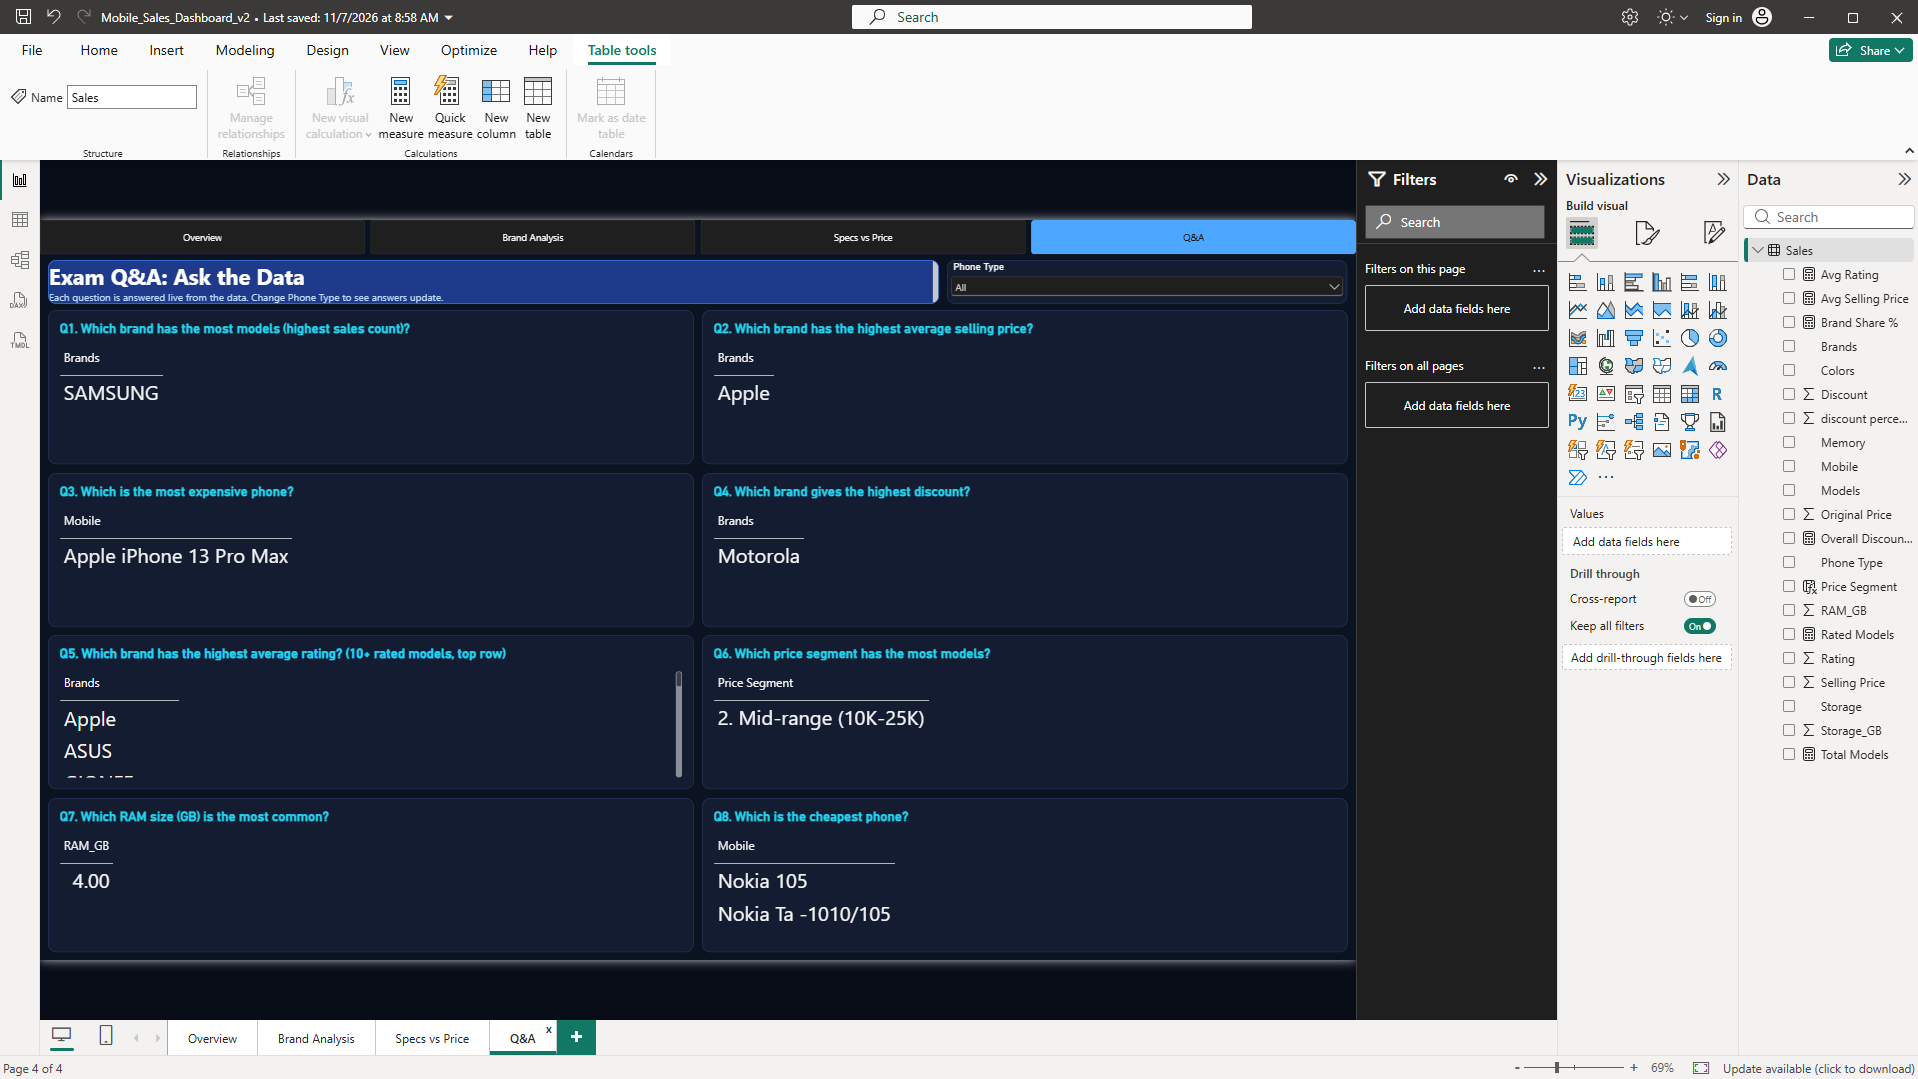

The dashboard page shown, as its layout file describes it:
{"tool":"powerbi","page":{"name":"Q&A","canvas":[1920,1080],"ordinal":3},"visuals":[{"type":"tableEx","title":"Q1. Which brand has the most models (highest sales count)?","fields":{"Values":["Sales.Brands","Sales.Total Models","Sales.Brand Share %"]},"box":[12,132,942,225],"z":1001},{"type":"tableEx","title":"Q2. Which brand has the highest average selling price?","fields":{"Values":["Sales.Brands","Sales.Avg Selling Price","Sales.Total Models"]},"box":[966,132,942,225],"z":1002},{"type":"tableEx","title":"Q3. Which is the most expensive phone?","fields":{"Values":["Sales.Mobile","Max(Sales.Selling Price)"]},"box":[12,369,942,225],"z":1003},{"type":"tableEx","title":"Q4. Which brand gives the highest discount?","fields":{"Values":["Sales.Brands","Sales.Overall Discount %","Sales.Total Models"]},"box":[966,369,942,225],"z":1004},{"type":"tableEx","title":"Q5. Which brand has the highest average rating? (10+ rated models, top row)","fields":{"Values":["Sales.Brands","Sales.Avg Rating","Sales.Rated Models"]},"box":[12,606,942,225],"z":1005},{"type":"tableEx","title":"Q6. Which price segment has the most models?","fields":{"Values":["Sales.Price Segment","Sales.Total Models"]},"box":[966,606,942,225],"z":1006},{"type":"tableEx","title":"Q7. Which RAM size (GB) is the most common?","fields":{"Values":["Sales.RAM_GB","Sales.Total Models"]},"box":[12,843,942,225],"z":1007},{"type":"tableEx","title":"Q8. Which is the cheapest phone?","fields":{"Values":["Sales.Mobile","Min(Sales.Selling Price)"]},"box":[966,843,942,225],"z":1008},{"type":"textbox","box":[12,58,1300,64],"z":9000},{"type":"pageNavigator","box":[0,0,1920,50],"z":9100},{"type":"slicer","title":"Phone Type","fields":{"Values":["Sales.Phone Type"]},"box":[1324,58,584,64],"z":9200}]}

Visuals, with their boxes on the page's 1920x1080 design canvas (x1, y1, x2, y2). These are canvas units, not pixel positions in the 1918x1079 screenshot, which may show the page scaled, cropped or inside an application window:
"Q1. Which brand has the most models (highest sales count)?" tableEx: 12, 132, 954, 357
"Q2. Which brand has the highest average selling price?" tableEx: 966, 132, 1908, 357
"Q3. Which is the most expensive phone?" tableEx: 12, 369, 954, 594
"Q4. Which brand gives the highest discount?" tableEx: 966, 369, 1908, 594
"Q5. Which brand has the highest average rating? (10+ rated models, top row)" tableEx: 12, 606, 954, 831
"Q6. Which price segment has the most models?" tableEx: 966, 606, 1908, 831
"Q7. Which RAM size (GB) is the most common?" tableEx: 12, 843, 954, 1068
"Q8. Which is the cheapest phone?" tableEx: 966, 843, 1908, 1068
textbox: 12, 58, 1312, 122
pageNavigator: 0, 0, 1920, 50
"Phone Type" slicer: 1324, 58, 1908, 122
